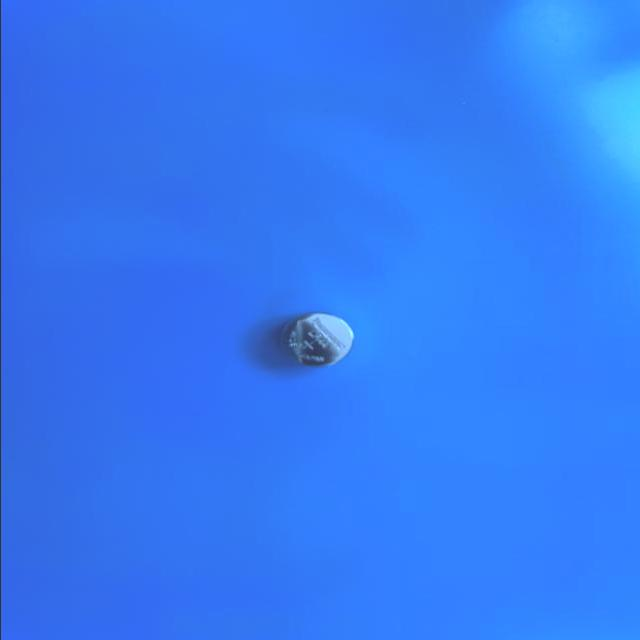COIN: (276, 312, 358, 367)
